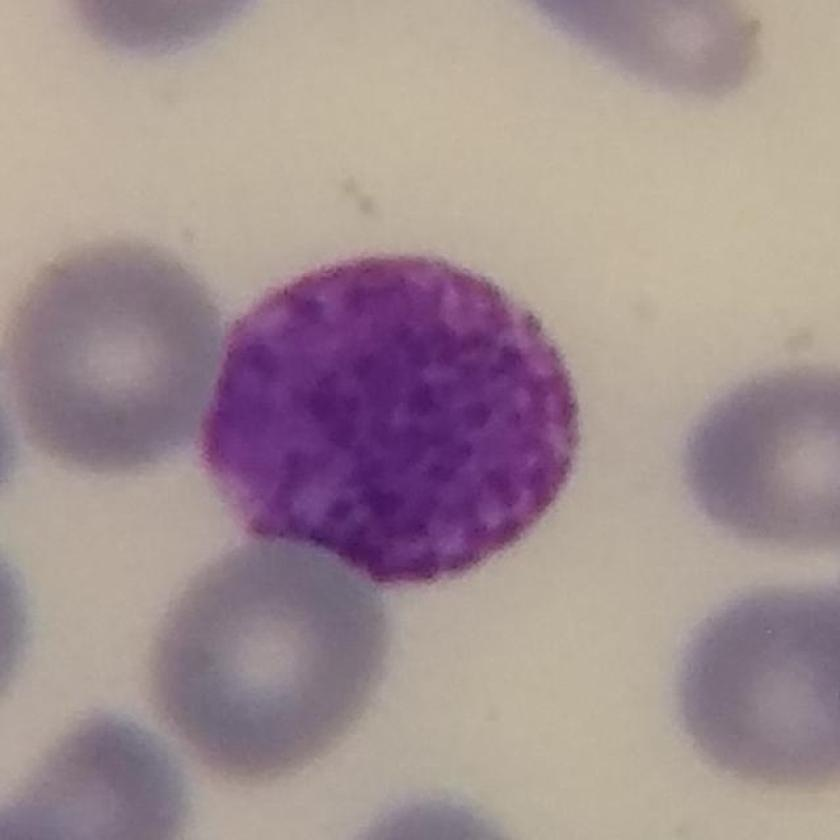basophil: (207, 250, 590, 601)
